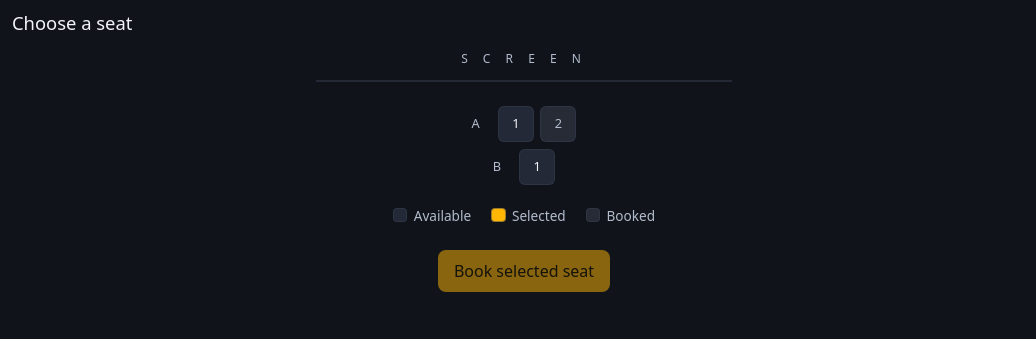
SeatMap › shows Booking... while the booking request is pending
Click the button named "row a, seat 1, available": (516, 124) [498,106,534,142]
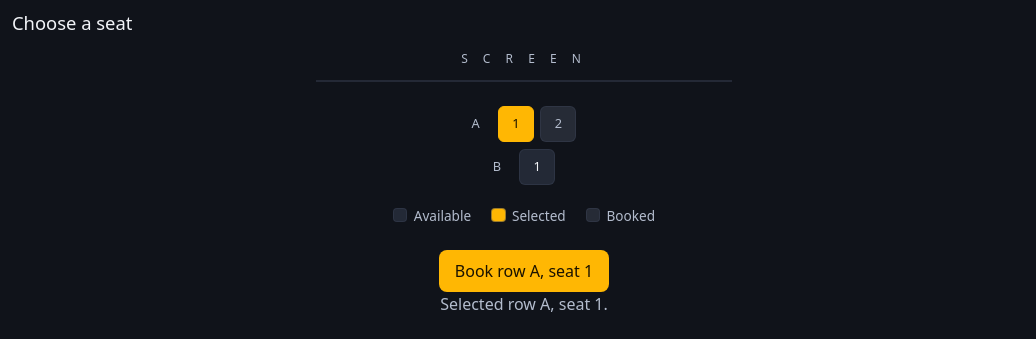
Click the button "Book row A, seat 1": (524, 271) [440,250,609,292]
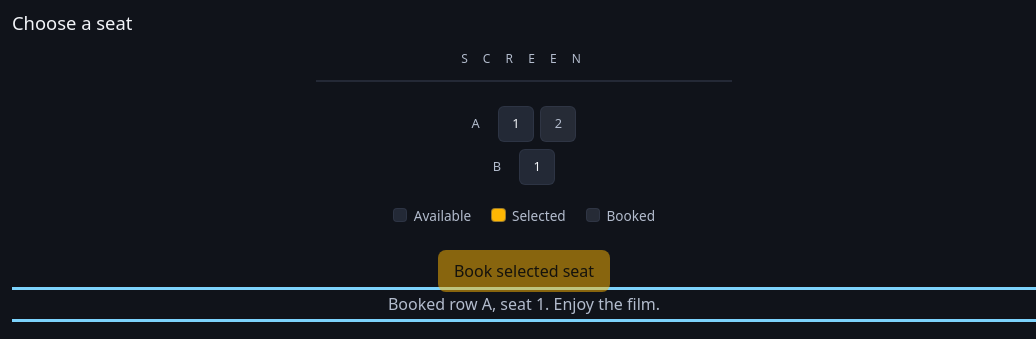
Expected: the message reads "Booked row A, seat 1. Enjoy the film.", [388,293,660,315]
